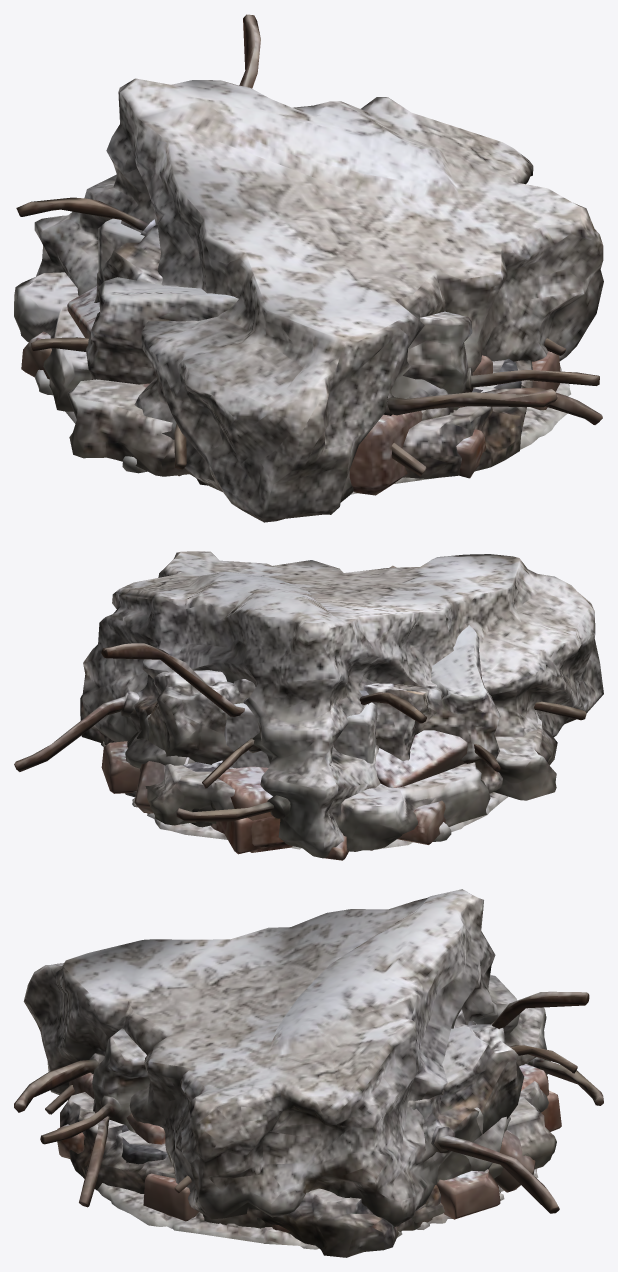
Rendered from rubble-4k.glb.
The picture shows the model from 3 angles, top to bottom: view 1: azimuth 30°, elevation 25°; view 2: azimuth 150°, elevation 25°; view 3: azimuth 270°, elevation 25°; orthographic projection. The views are drawn at different scales.
Parts seen in each view (by area): view 1: rb-chunk-big, rb-chunk-rebar, rb-slab, rb-brick-loose, rb-bricks, rb-gravel, rb-cinder; view 2: rb-chunk-big, rb-chunk-rebar, rb-slab, rb-bricks, rb-cinder, rb-brick-loose, rb-gravel, rb-asphalt; view 3: rb-chunk-big, rb-chunk-rebar, rb-slab, rb-bricks, rb-gravel, rb-brick-loose, rb-asphalt.
Boxes of the visible parts, left/top/right/bottom form: rb-chunk-big: left=31, top=14, right=603, bottom=522; rb-chunk-rebar: left=16, top=197, right=599, bottom=476; rb-slab: left=14, top=272, right=532, bottom=478; rb-brick-loose: left=349, top=355, right=492, bottom=495; rb-bricks: left=21, top=286, right=560, bottom=478; rb-gravel: left=35, top=365, right=570, bottom=494; rb-cinder: left=98, top=218, right=144, bottom=271; rb-chunk-big: left=82, top=551, right=603, bottom=858; rb-chunk-rebar: left=14, top=625, right=586, bottom=793; rb-slab: left=80, top=695, right=557, bottom=851; rb-bricks: left=101, top=730, right=467, bottom=860; rb-cinder: left=222, top=702, right=377, bottom=768; rb-brick-loose: left=211, top=766, right=292, bottom=852; rb-gravel: left=101, top=741, right=507, bottom=849; rb-asphalt: left=114, top=741, right=235, bottom=827; rb-chunk-big: left=14, top=889, right=603, bottom=1226; rb-chunk-rebar: left=40, top=1009, right=577, bottom=1213; rb-slab: left=60, top=1081, right=556, bottom=1257; rb-bricks: left=57, top=1090, right=561, bottom=1232; rb-gravel: left=97, top=1168, right=538, bottom=1249; rb-brick-loose: left=68, top=1064, right=548, bottom=1144; rb-asphalt: left=121, top=1125, right=440, bottom=1230.
Bounding box in the file's own units: 0.3169 × 0.1489 × 0.356.
Materials: 1 (1 with a texture image).
